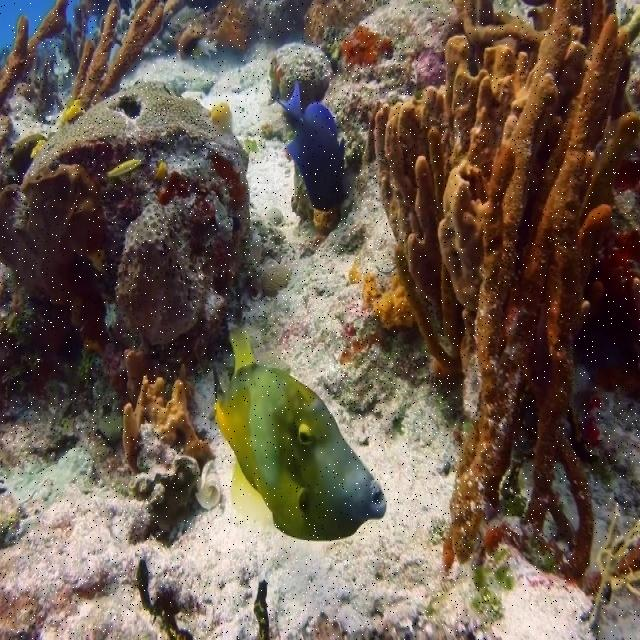fish: (216, 332, 386, 541), (268, 84, 348, 208)
reefs: (375, 0, 639, 575), (68, 1, 162, 111), (0, 0, 68, 107)
